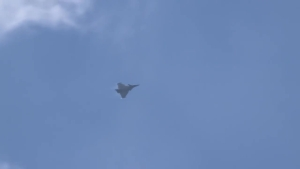flight: (114, 82, 141, 99)
